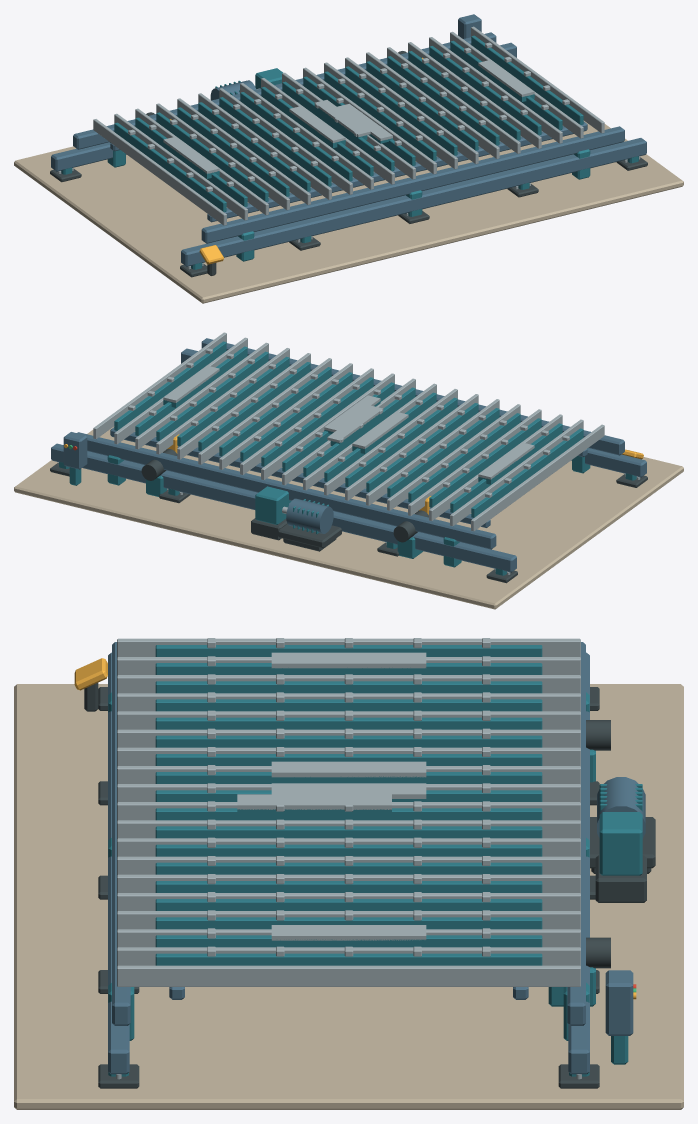
File: CS-PLATE-05-lod2.glb
The picture shows the model from 3 angles, top to bottom: view 1: azimuth 30°, elevation 25°; view 2: azimuth 150°, elevation 25°; view 3: azimuth 270°, elevation 25°; orthographic projection. The views are drawn at different scales.
Visible parts, largest first — view 1: foundation, right_bed_beam, right_rack_sill, fixed_rack_0, right_transfer_rail, moving_rack_6, moving_rack_10, moving_rack_14, moving_rack_3, moving_rack_11, moving_rack_15, moving_rack_2 (+36 smaller); view 2: foundation, left_rack_sill, left_bed_beam, fixed_rack_0, moving_rack_10, moving_rack_14, moving_rack_2, moving_rack_4, moving_rack_6, moving_rack_12, moving_rack_13, moving_rack_15 (+42 smaller); view 3: foundation, fixed_rack_18, moving_rack_17, moving_rack_10, moving_rack_3, moving_rack_2, moving_rack_4, moving_rack_5, moving_rack_11, moving_rack_12, moving_rack_14, moving_rack_13 (+49 smaller).
Part boxes in pixels (x1,y1,x2,y2): foundation: [14, 120, 683, 303]; right_bed_beam: [181, 138, 646, 266]; right_rack_sill: [201, 126, 624, 243]; fixed_rack_0: [93, 119, 226, 225]; right_transfer_rail: [207, 121, 587, 222]; moving_rack_6: [240, 92, 352, 181]; moving_rack_10: [324, 71, 436, 160]; moving_rack_14: [408, 51, 520, 140]; moving_rack_3: [177, 107, 289, 196]; moving_rack_11: [345, 66, 457, 155]; moving_rack_15: [429, 46, 541, 135]; moving_rack_2: [156, 112, 268, 201]; foundation: [14, 426, 683, 609]; left_rack_sill: [77, 432, 496, 549]; left_bed_beam: [51, 443, 516, 572]; fixed_rack_0: [471, 424, 604, 531]; moving_rack_10: [261, 377, 373, 466]; moving_rack_14: [177, 356, 289, 446]; moving_rack_2: [429, 418, 541, 507]; moving_rack_4: [387, 408, 499, 497]; moving_rack_6: [345, 397, 457, 487]; moving_rack_12: [219, 367, 331, 456]; moving_rack_13: [198, 362, 310, 451]; moving_rack_15: [156, 351, 268, 440]; foundation: [14, 684, 683, 1109]; fixed_rack_18: [117, 965, 580, 986]; moving_rack_17: [155, 953, 542, 965]; moving_rack_10: [155, 826, 542, 838]; moving_rack_3: [155, 699, 542, 711]; moving_rack_2: [155, 681, 542, 693]; moving_rack_4: [155, 717, 542, 729]; moving_rack_5: [155, 735, 542, 747]; moving_rack_11: [155, 844, 542, 856]; moving_rack_12: [155, 862, 542, 874]; moving_rack_14: [155, 899, 542, 910]; moving_rack_13: [155, 881, 542, 892].
Bounding box in the file's own units: 11.5 × 1.42 × 7.8.
